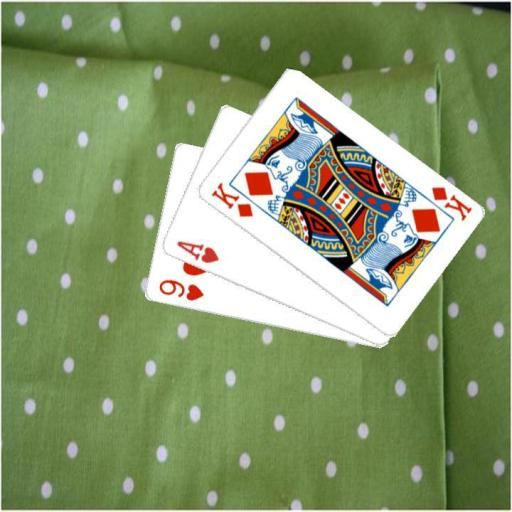9H: (155, 277, 205, 303)
AH: (173, 238, 220, 265)
KD: (208, 179, 255, 219), (428, 184, 474, 223)
